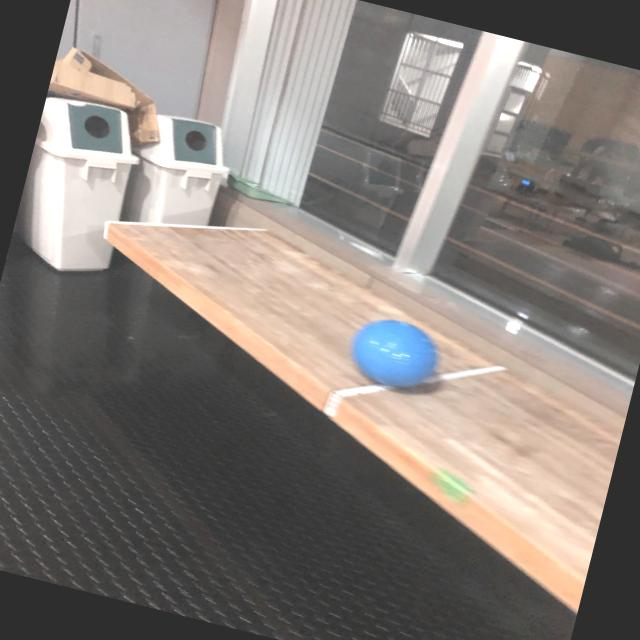blue_ball: (349, 308, 451, 399)
